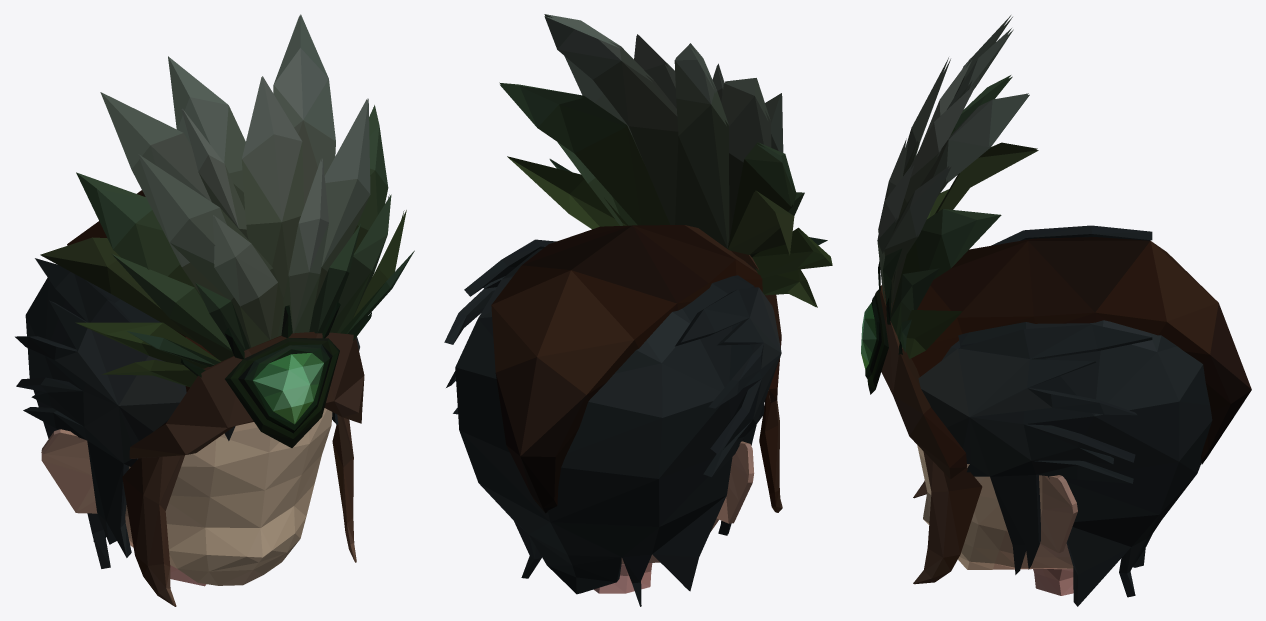
Rendered from helm_lightskin_spike_black_headress.fbx.
3 views of the same model, side by side, from view 1: azimuth 30°, elevation 25°; view 2: azimuth 150°, elevation 25°; view 3: azimuth 270°, elevation 25° (orthographic). The views are drawn at different scales.
Visible parts, largest first — view 1: helm_lightskin_spike_black_headress; view 2: helm_lightskin_spike_black_headress; view 3: helm_lightskin_spike_black_headress.
Boxes of the visible parts, box(x1,y1,x2,y2) form: helm_lightskin_spike_black_headress: box(15, 14, 414, 606); helm_lightskin_spike_black_headress: box(444, 14, 832, 606); helm_lightskin_spike_black_headress: box(861, 15, 1251, 606).
Bounding box in the file's own units: 1.29 × 2.05 × 1.35.
